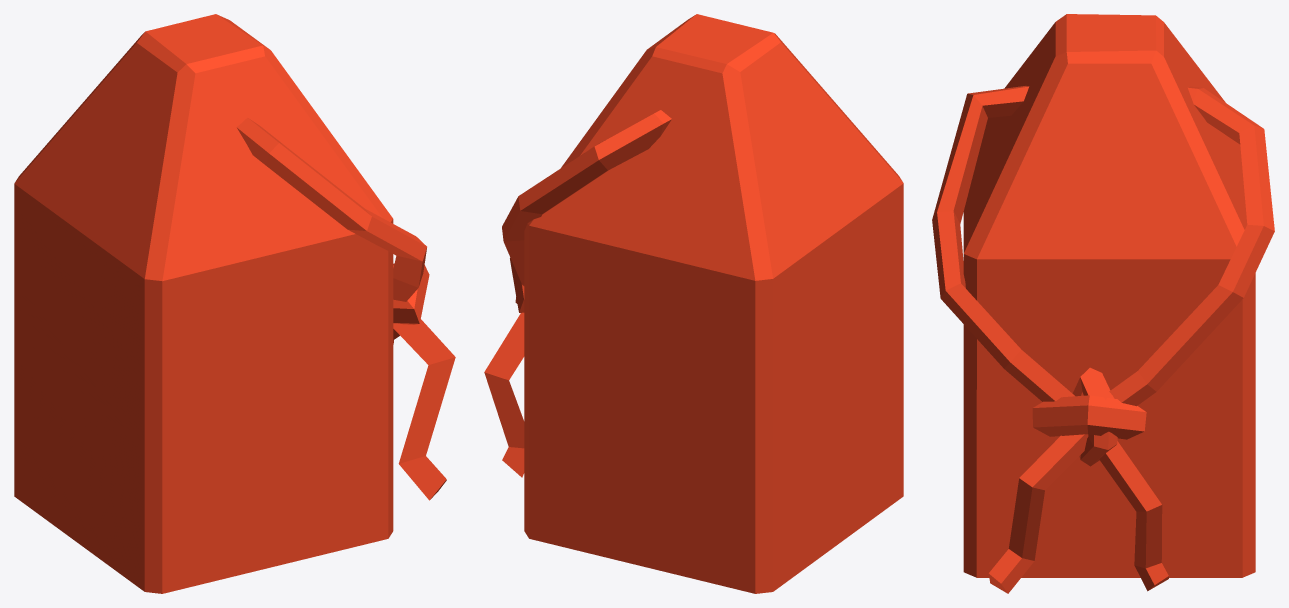
The model's file is SM_Decoration_Beach_A_City.fbx.
3 views of the same model, side by side, from view 1: azimuth 30°, elevation 25°; view 2: azimuth 150°, elevation 25°; view 3: azimuth 270°, elevation 25° (orthographic).
Parts seen in each view (by area): view 1: SM_Decoration_Beach_A_City; view 2: SM_Decoration_Beach_A_City; view 3: SM_Decoration_Beach_A_City.
Part boxes in pixels (x1,y1,x2,y2): SM_Decoration_Beach_A_City: (14,14,455,593); SM_Decoration_Beach_A_City: (484,14,903,593); SM_Decoration_Beach_A_City: (932,14,1274,593).
Bounding box in the file's own units: 0.2731 × 0.3652 × 0.2349.
